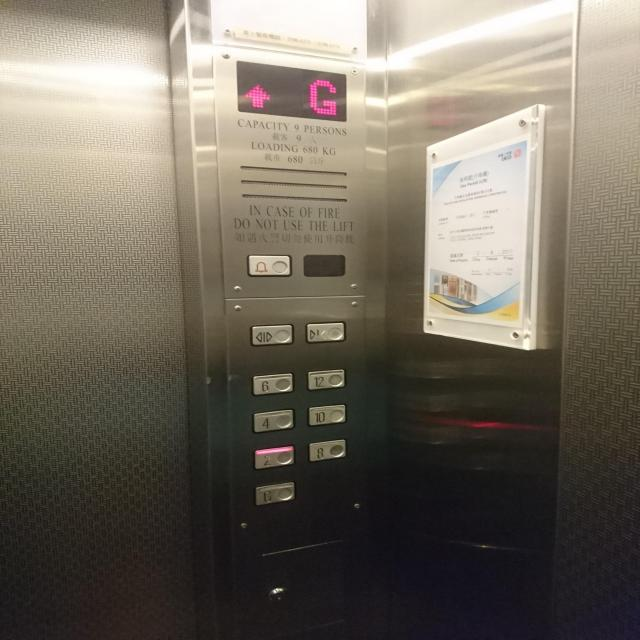10: (306, 404, 347, 426)
12: (305, 368, 347, 391)
2: (252, 444, 296, 470)
4: (250, 408, 296, 434)
6: (250, 371, 296, 397)
8: (304, 438, 348, 463)
G: (252, 480, 297, 506)
alarm: (244, 252, 294, 280)
close: (304, 320, 348, 344)
empty: (299, 252, 348, 280)
led: (231, 54, 349, 126)
open: (250, 321, 296, 347)
